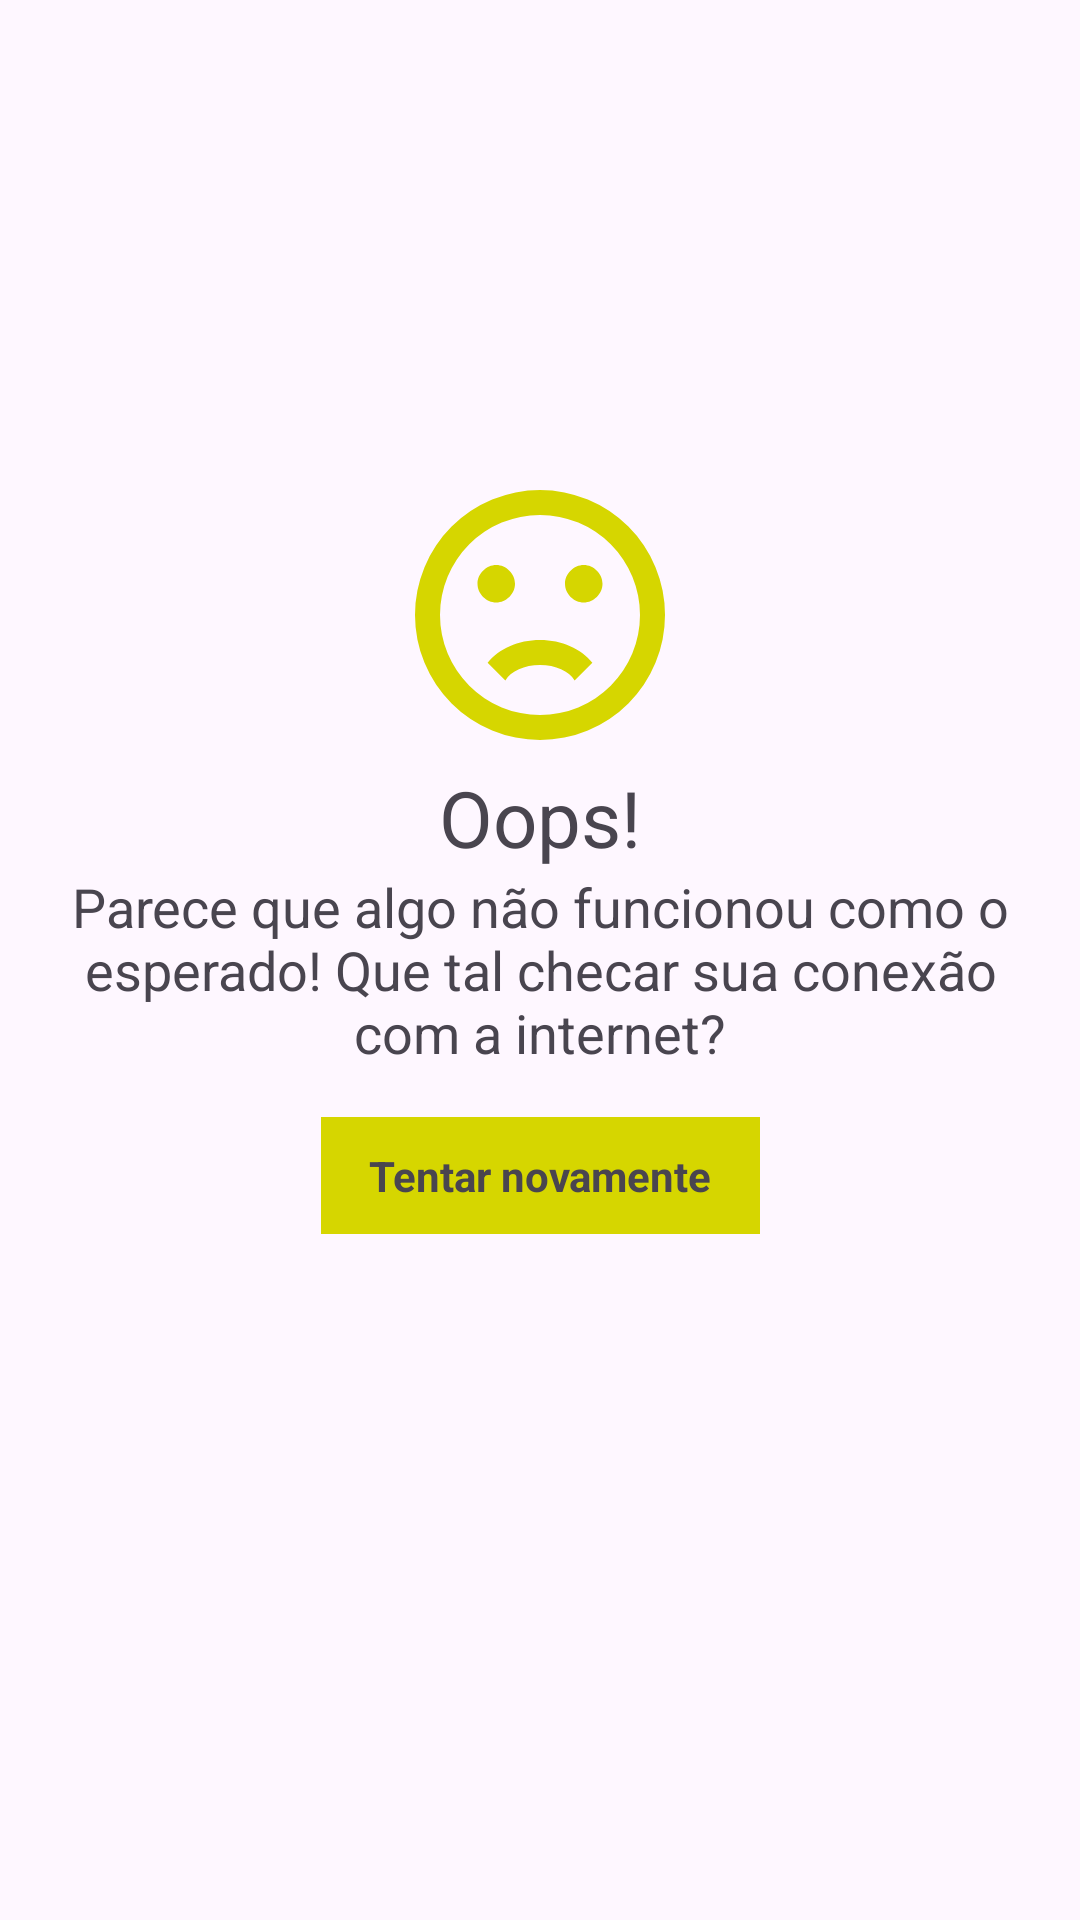

Named icons in this screenshot (1080*1920) and their bounding boxes, bbox=[x1, y1, x2, y2]:
sad: bbox=[415, 490, 665, 740]
